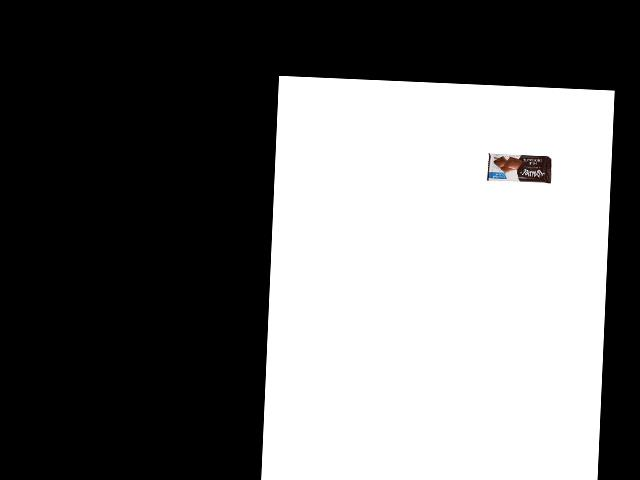chocolate: (486, 151, 551, 184)
